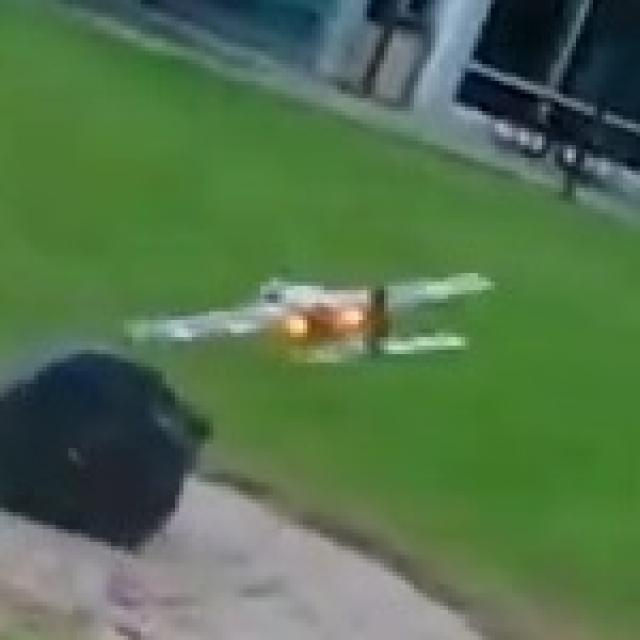iha: (128, 294, 512, 346)
